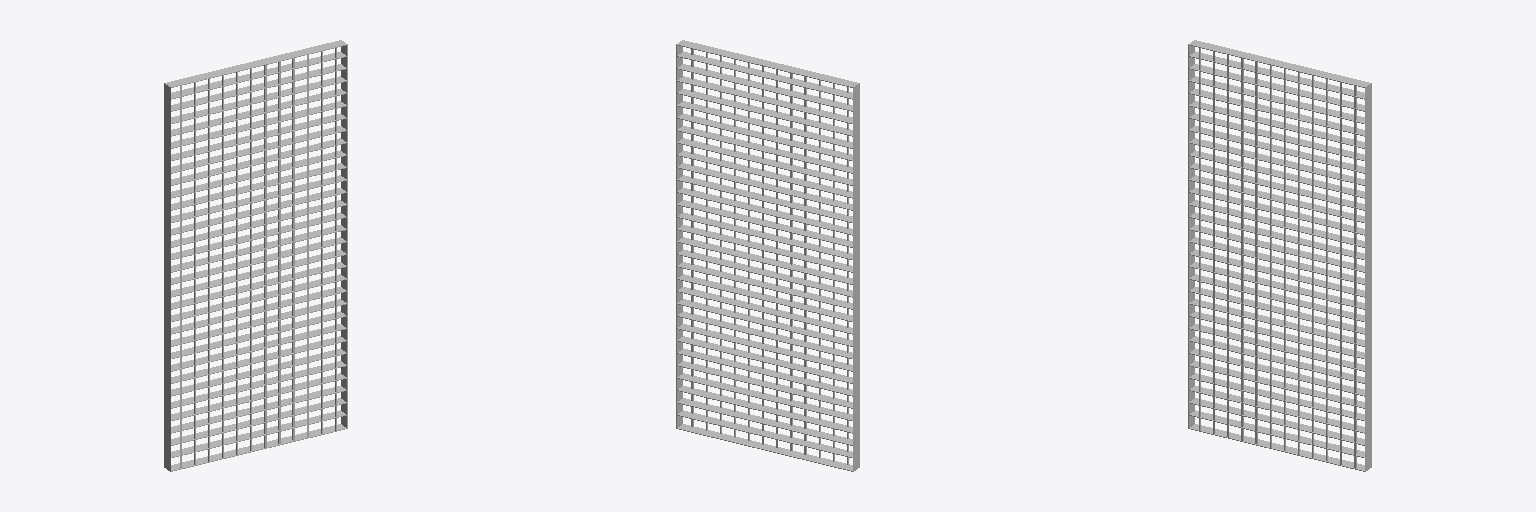
Rendered from krata wema.obj.
The picture shows the model from 3 angles: view 1: azimuth 30°, elevation 25°; view 2: azimuth 150°, elevation 25°; view 3: azimuth 330°, elevation 25°; orthographic projection.
Parts seen in each view (by area): view 1: Bryła256; view 2: Bryła256; view 3: Bryła256.
Part boxes in pixels (bbox=[...]): Bryła256: bbox=[164, 40, 347, 471]; Bryła256: bbox=[676, 40, 859, 471]; Bryła256: bbox=[1188, 40, 1371, 471].
Size of the model in its own units: 490 by 1018 by 30.